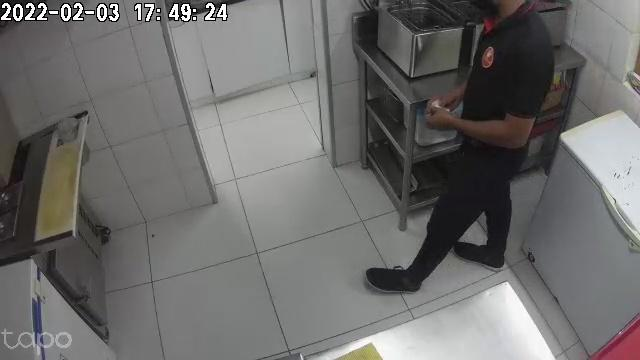no_gloves: (426, 102, 469, 130)
